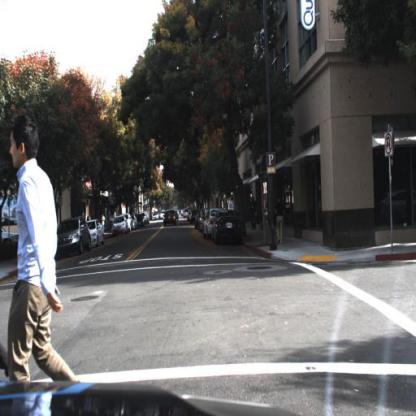car: (54, 213, 93, 260), (211, 208, 248, 252), (2, 223, 23, 252), (86, 219, 107, 248), (204, 210, 217, 242), (163, 208, 180, 231), (113, 214, 129, 235)
pedestrian: (7, 116, 85, 398), (275, 195, 289, 245), (249, 195, 261, 234), (249, 199, 259, 237)
